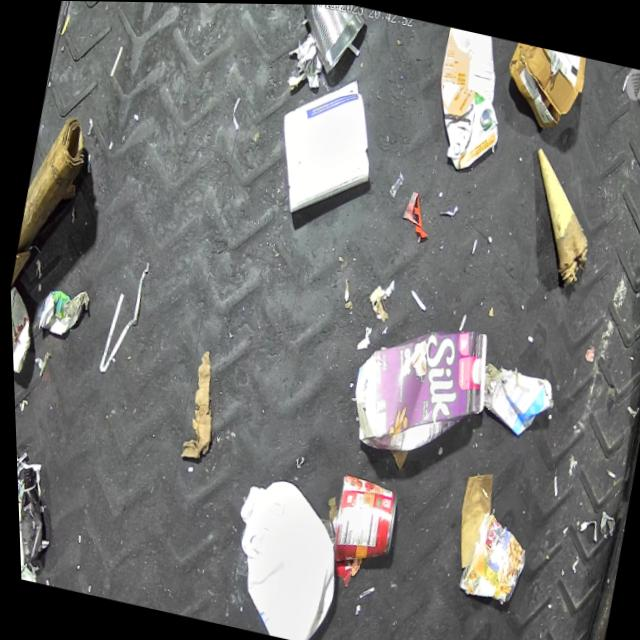can: (321, 469, 401, 571), (449, 506, 531, 605), (287, 3, 369, 79), (8, 285, 39, 375)
milk_jug: (211, 469, 352, 640)
non_white_jug: (338, 305, 497, 472), (417, 24, 517, 177)
